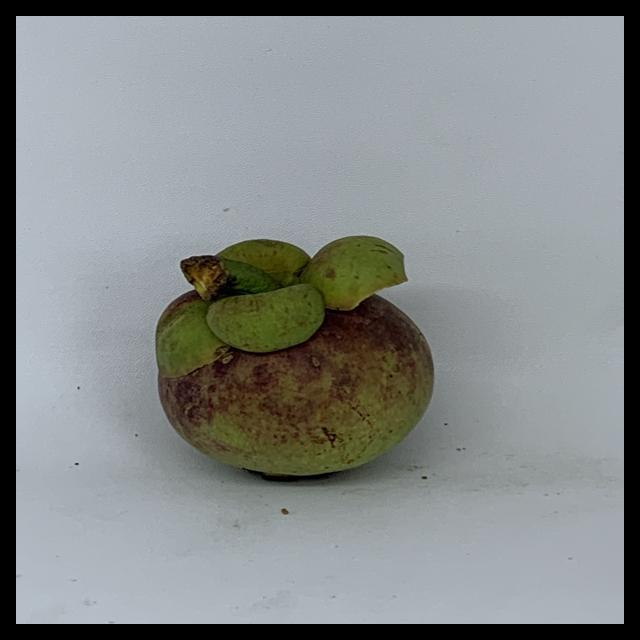mangosteen: (148, 236, 468, 497)
